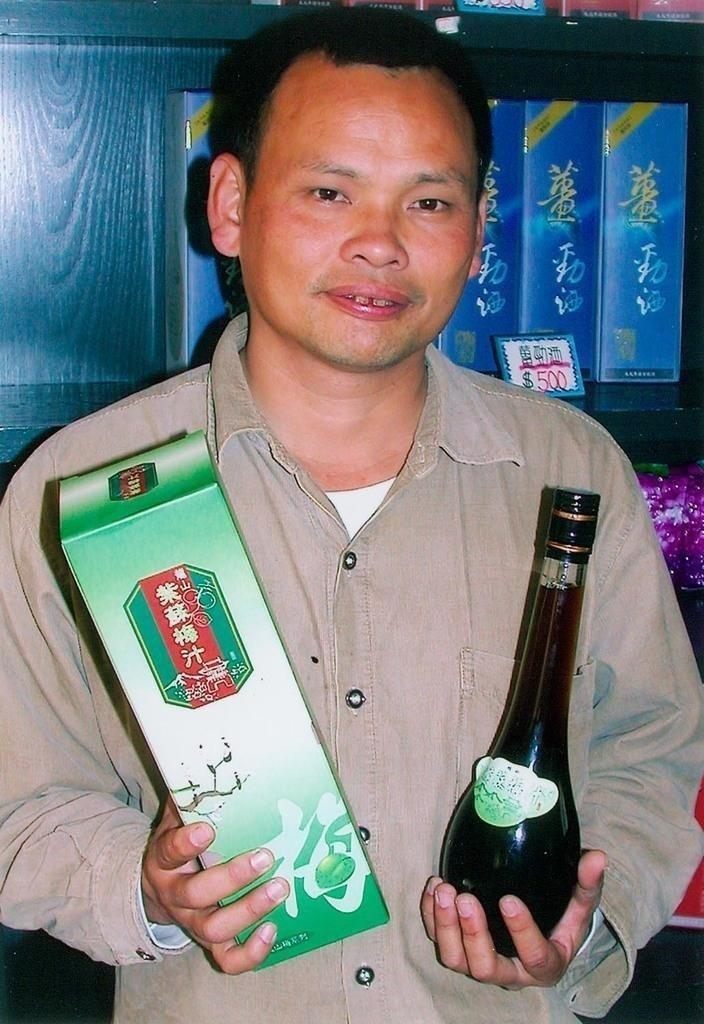bottle-glass: (437, 480, 606, 951)
